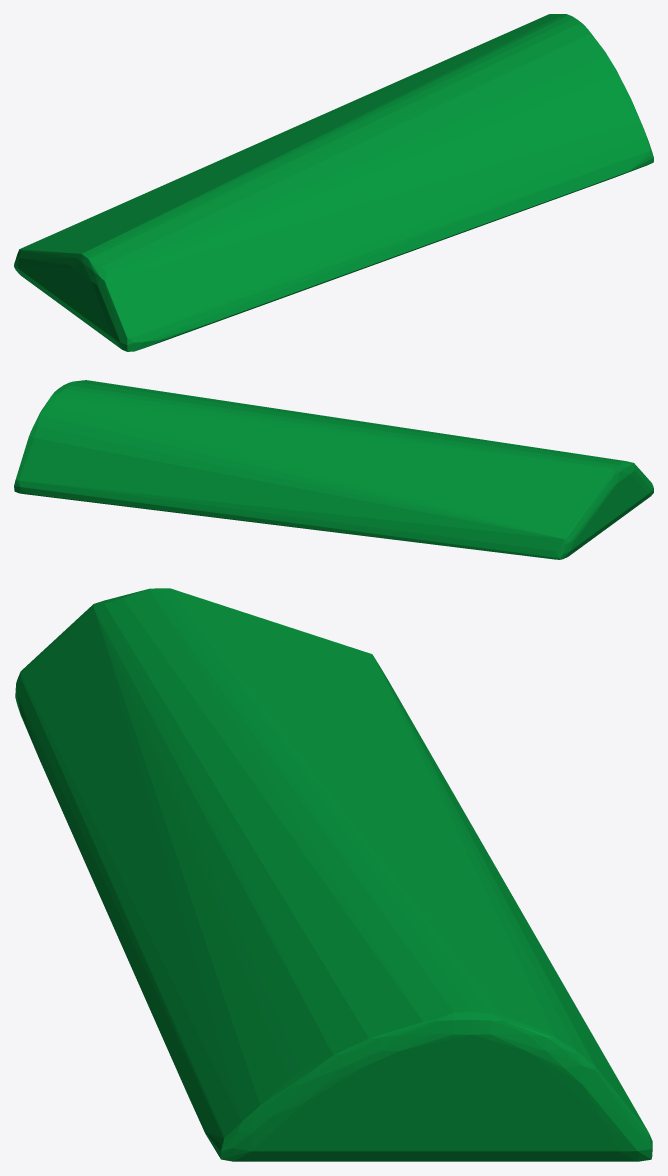
File: right-elbow-0_part_33.obj
The picture shows the model from 3 angles, top to bottom: view 1: azimuth 30°, elevation 25°; view 2: azimuth 150°, elevation 25°; view 3: azimuth 270°, elevation 25°; orthographic projection. The views are drawn at different scales.
Size of the model in its own units: 0.0556 by 0.00808 by 0.0315.
